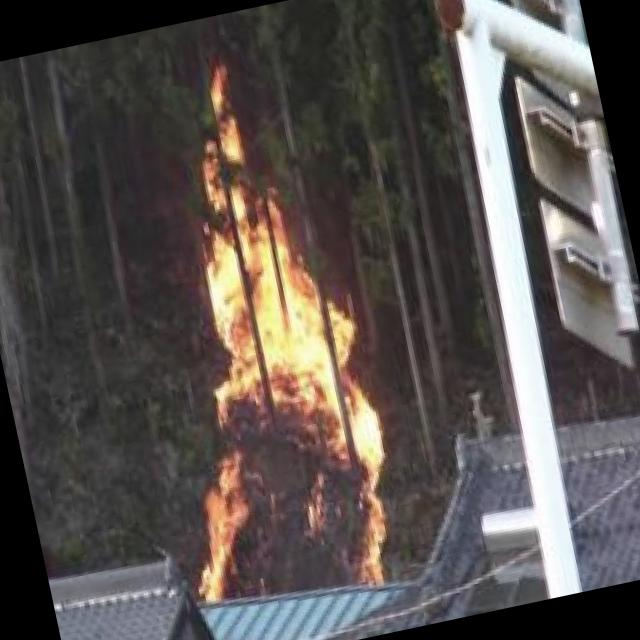Fire: (104, 45, 411, 616)
